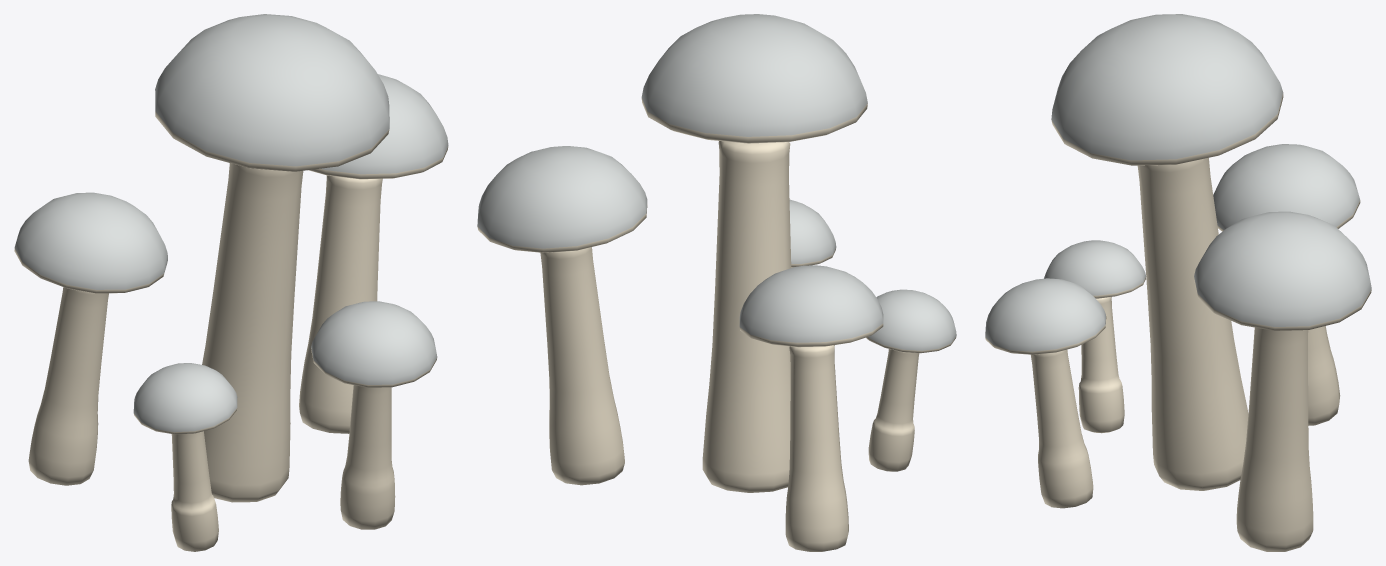
File: sh_mushroom_cluster_white.fbx
The picture shows the model from 3 angles, left to right: view 1: azimuth 30°, elevation 25°; view 2: azimuth 150°, elevation 25°; view 3: azimuth 270°, elevation 25°; orthographic projection. The views are drawn at different scales.
Visible parts, largest first — view 1: SH_Mushroom_Cluster_White; view 2: SH_Mushroom_Cluster_White; view 3: SH_Mushroom_Cluster_White.
Boxes of the visible parts, x1,y1,x2,y2 form: SH_Mushroom_Cluster_White: (14, 14, 448, 551); SH_Mushroom_Cluster_White: (477, 14, 956, 551); SH_Mushroom_Cluster_White: (985, 14, 1371, 551).
Size of the model in its own units: 13.43 by 14.6 by 11.26.
